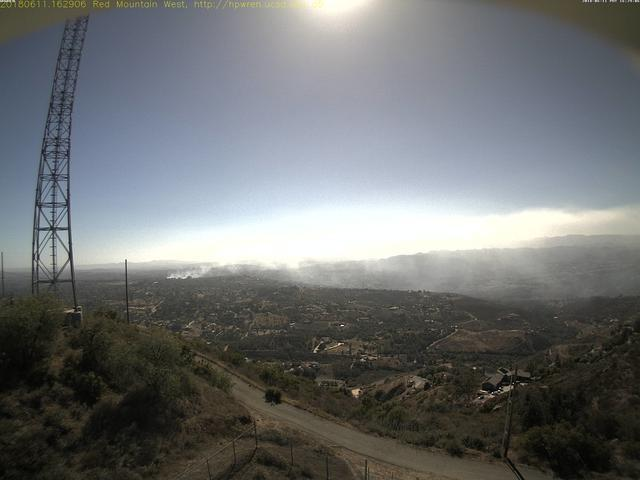Smoke: (164, 238, 561, 298)
